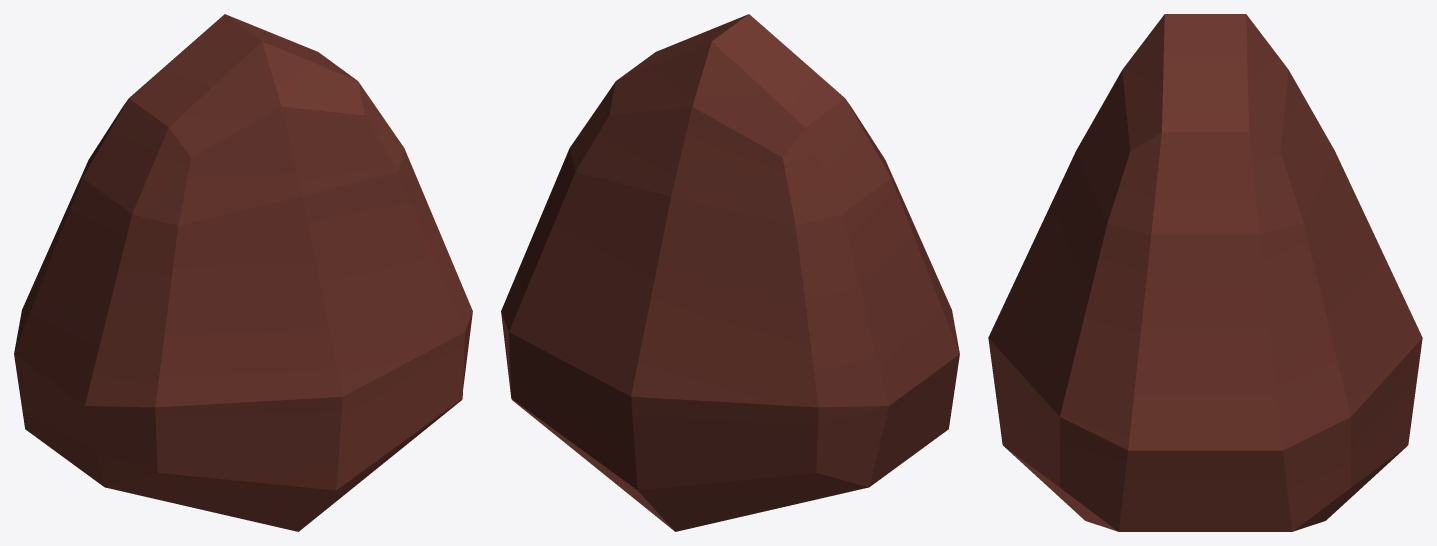
File: semechko.fbx
3 renders of one model, left to right at view 1: azimuth 30°, elevation 25°; view 2: azimuth 150°, elevation 25°; view 3: azimuth 270°, elevation 25°, orthographic. The views are drawn at different scales.
Parts seen in each view (by area): view 1: Cube.001; view 2: Cube.001; view 3: Cube.001.
Boxes of the visible parts, x1=… form: Cube.001: x1=14, y1=14, x2=472, y2=531; Cube.001: x1=501, y1=14, x2=959, y2=531; Cube.001: x1=988, y1=14, x2=1422, y2=531.
Size of the model in its own units: 21.53 by 24.59 by 19.1.
